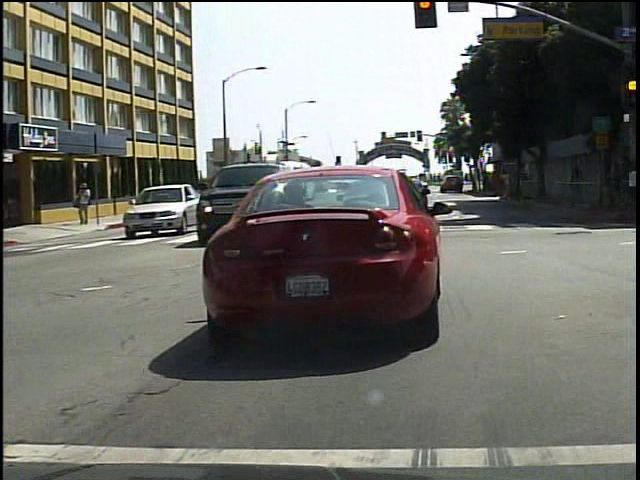person: (76, 178, 99, 226)
